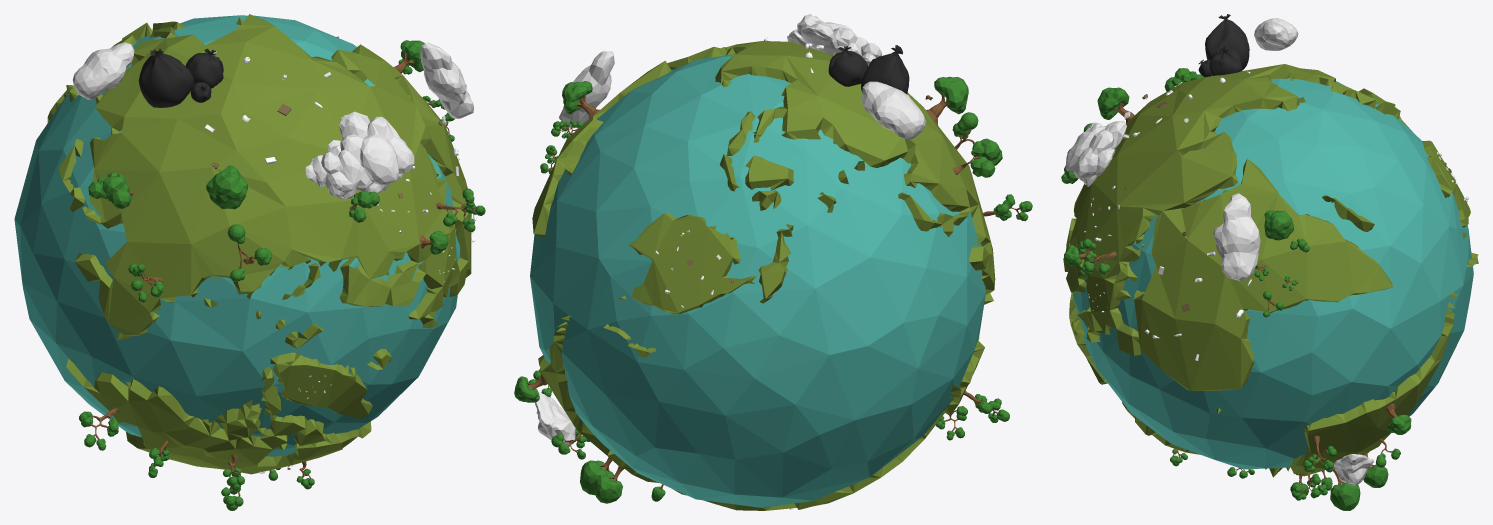
The model's file is TEA.fbx.
3 views of the same model, side by side, from view 1: azimuth 30°, elevation 25°; view 2: azimuth 150°, elevation 25°; view 3: azimuth 270°, elevation 25° (orthographic). The views are drawn at different scales.
Visible parts, largest first — view 1: all_good.002; view 2: all_good.002; view 3: all_good.002.
Boxes of the visible parts, box(x1,y1,x2,y2) form: all_good.002: box(14, 14, 485, 510); all_good.002: box(514, 14, 1032, 510); all_good.002: box(1061, 14, 1478, 510).
Bounding box in the file's own units: 103 × 110 × 102.
